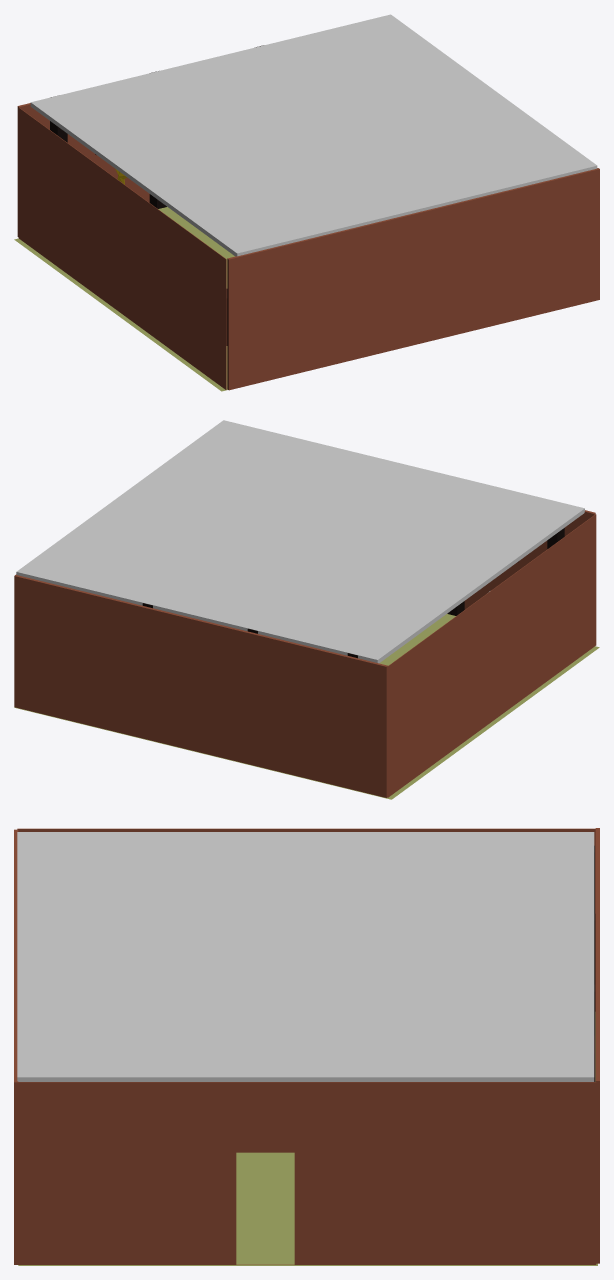
Rendered from Muesum2.obj.
3 views of the same model, one above another, from view 1: azimuth 30°, elevation 25°; view 2: azimuth 150°, elevation 25°; view 3: azimuth 270°, elevation 25° (orthographic). The views are drawn at different scales.
Size of the model in its own units: 11.74 by 4.01 by 11.32.
